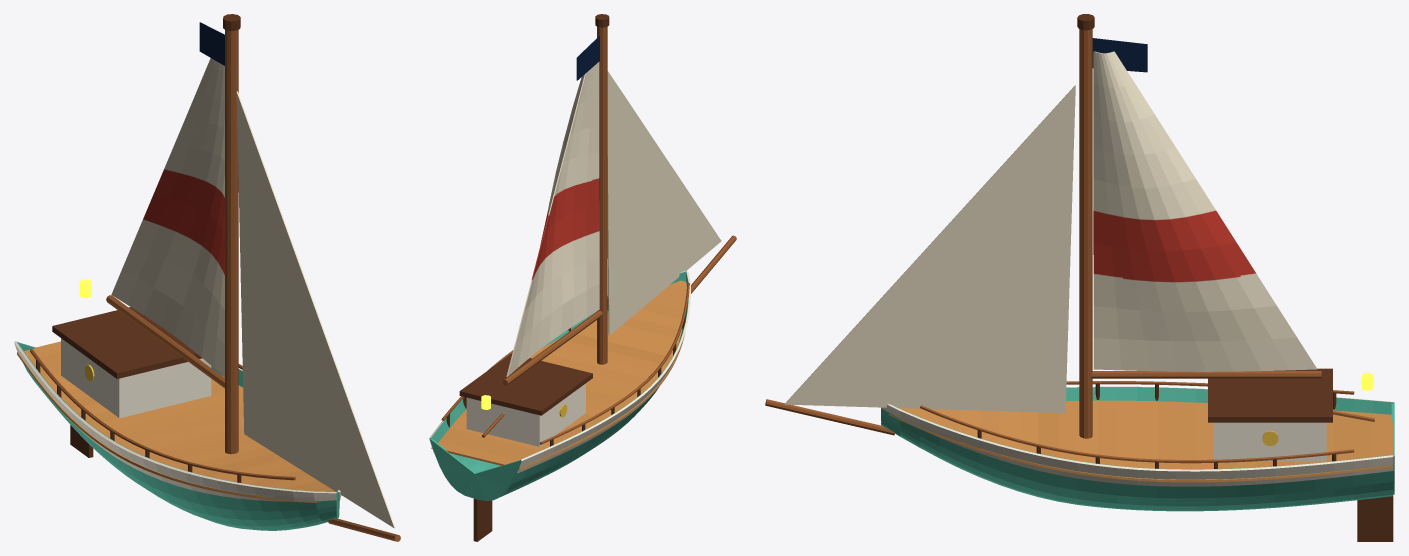
The model's file is tidebreakers_coastal_sloop.web-pbr.glb.
3 views of the same model, side by side, from view 1: azimuth 30°, elevation 25°; view 2: azimuth 150°, elevation 25°; view 3: azimuth 270°, elevation 25° (orthographic). The views are drawn at different scales.
Parts seen in each view (by area): view 1: tidebreakers_coastal_sloop_mesh; view 2: tidebreakers_coastal_sloop_mesh; view 3: tidebreakers_coastal_sloop_mesh.
Part boxes in pixels (x1,y1,x2,y2): tidebreakers_coastal_sloop_mesh: (14,14,400,541); tidebreakers_coastal_sloop_mesh: (429,14,736,541); tidebreakers_coastal_sloop_mesh: (765,14,1394,541).
Size of the model in its own units: 3.87 by 11.28 by 12.3.
Materials: 1 (1 with a texture image).
